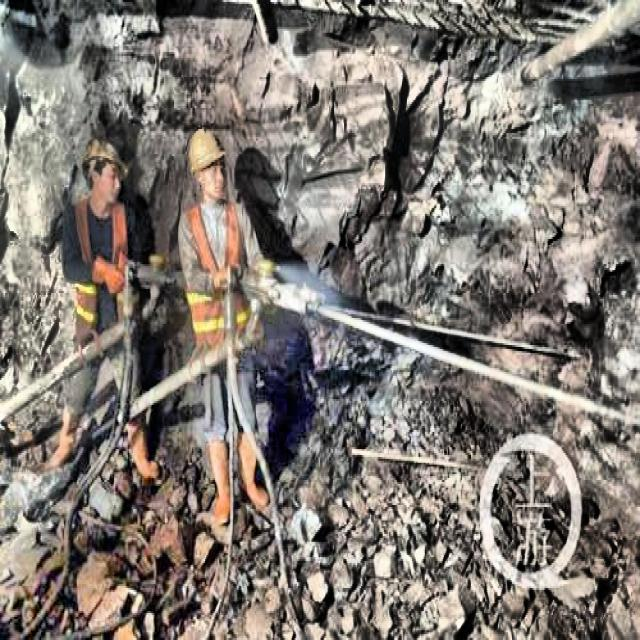helmet: (78, 129, 131, 212), (187, 126, 230, 207)
